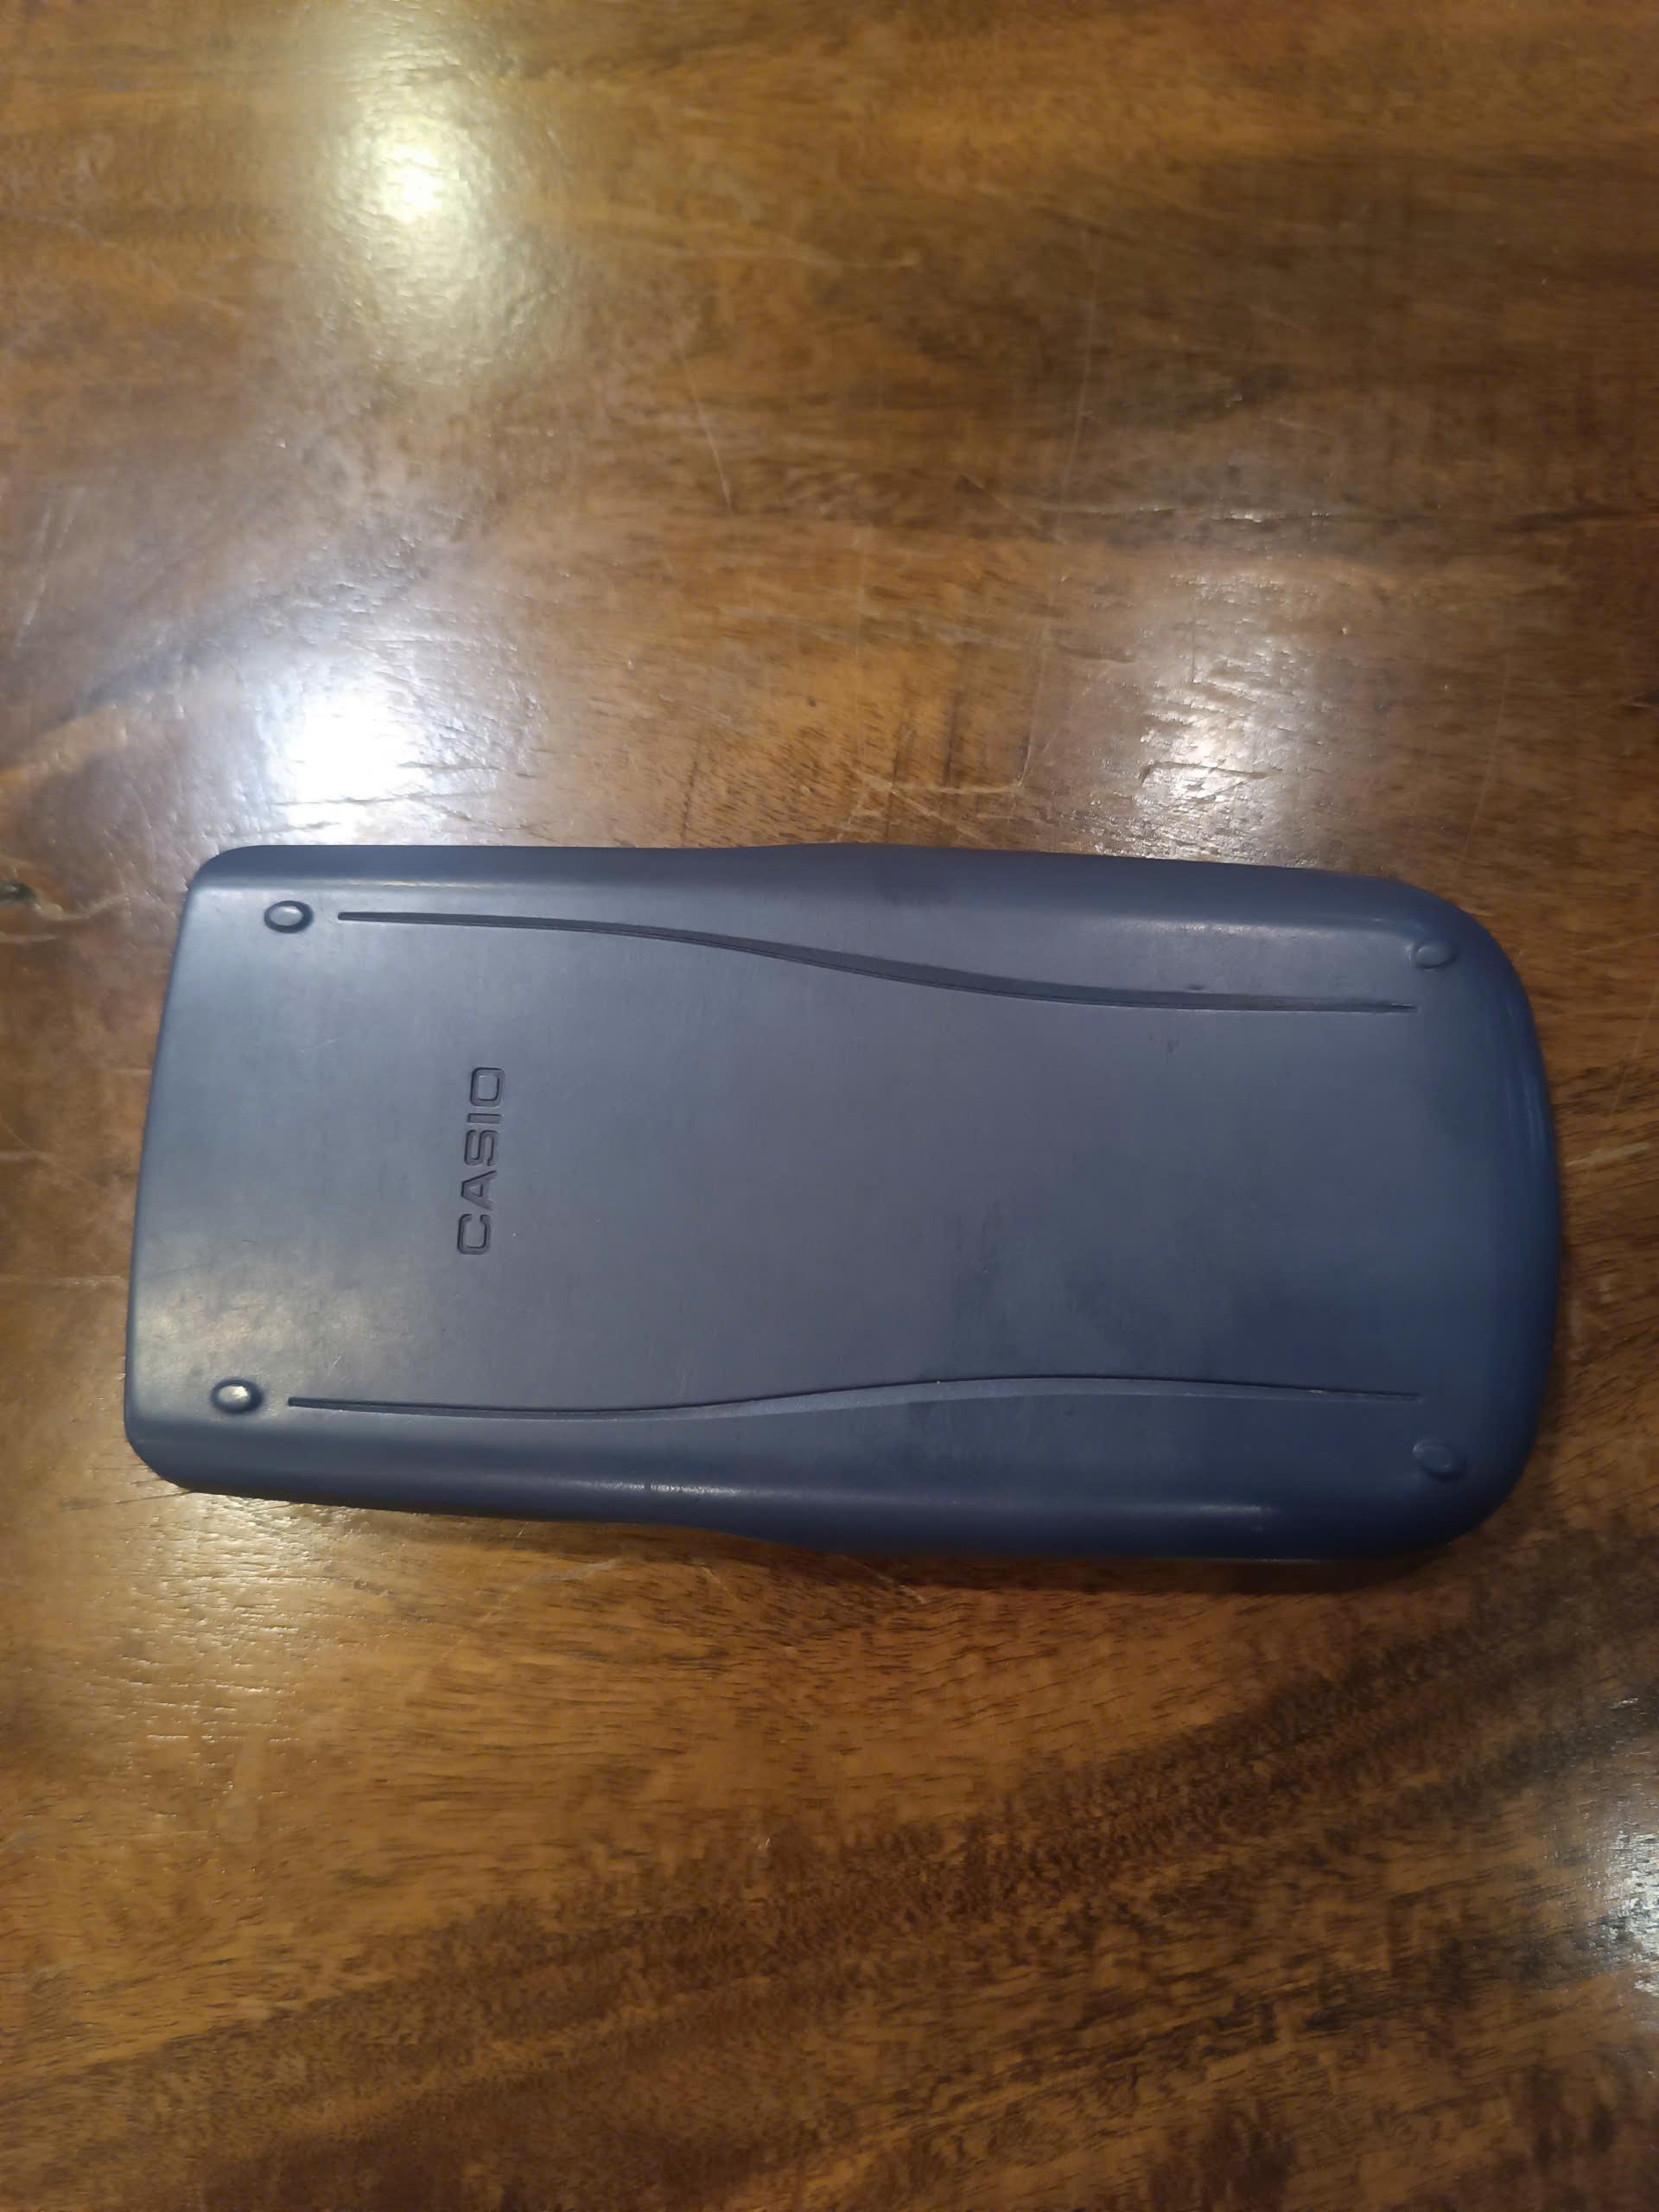Con lai: (120, 817, 1568, 1578)
